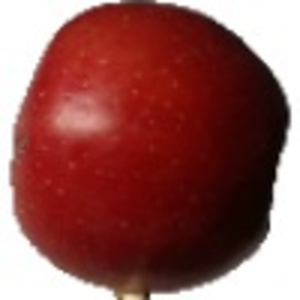maçã braeburn: (13, 1, 290, 291)
